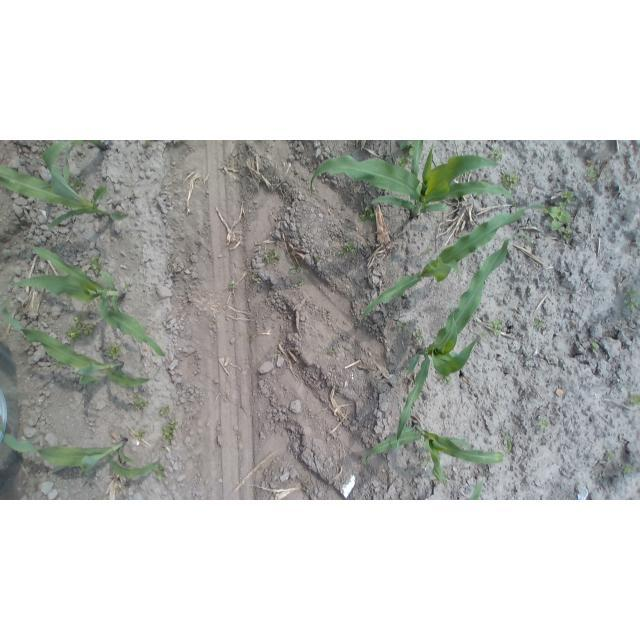Maize: (395, 231, 537, 453), (358, 203, 551, 325), (12, 240, 168, 360), (306, 140, 519, 220), (0, 296, 164, 387), (0, 140, 128, 232), (0, 413, 164, 484), (361, 423, 513, 484), (463, 476, 491, 501), (65, 140, 115, 153)
Weeds: (63, 311, 97, 344), (547, 201, 573, 240), (621, 285, 640, 316), (161, 418, 179, 446), (501, 168, 520, 191), (87, 253, 105, 277), (259, 247, 282, 265), (433, 368, 454, 387), (487, 317, 505, 338), (357, 205, 376, 223), (67, 174, 86, 192), (154, 462, 169, 484), (340, 241, 356, 260), (617, 460, 634, 476), (107, 344, 123, 361), (559, 188, 575, 204), (327, 339, 341, 357), (585, 165, 599, 183), (627, 392, 640, 411), (134, 398, 150, 413), (133, 425, 148, 441), (157, 404, 173, 419), (535, 416, 552, 430), (488, 146, 505, 160), (410, 330, 428, 343), (398, 151, 411, 169), (532, 316, 548, 330), (288, 264, 304, 277), (395, 317, 410, 330), (590, 342, 603, 355), (604, 449, 615, 462), (478, 331, 491, 342), (421, 245, 433, 256), (294, 277, 306, 288), (227, 281, 240, 291), (251, 273, 262, 284), (121, 283, 132, 294), (311, 251, 321, 263), (440, 471, 449, 484), (142, 140, 155, 148), (248, 331, 257, 341), (182, 291, 190, 300), (360, 458, 368, 466), (626, 207, 633, 216), (426, 456, 431, 466)
